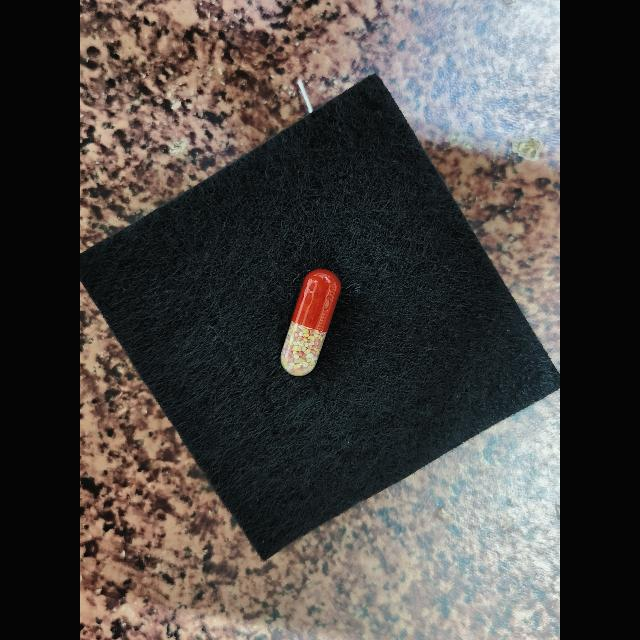Intact Capsule: (280, 269, 341, 376)
